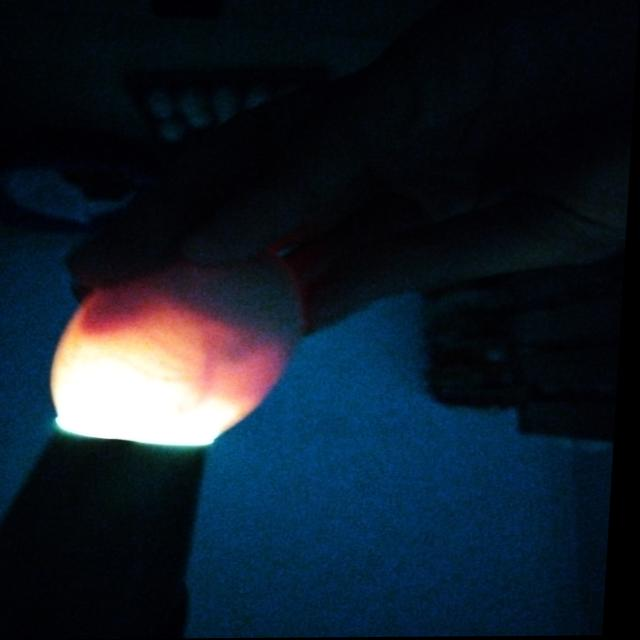Embriao: (88, 256, 307, 352)
